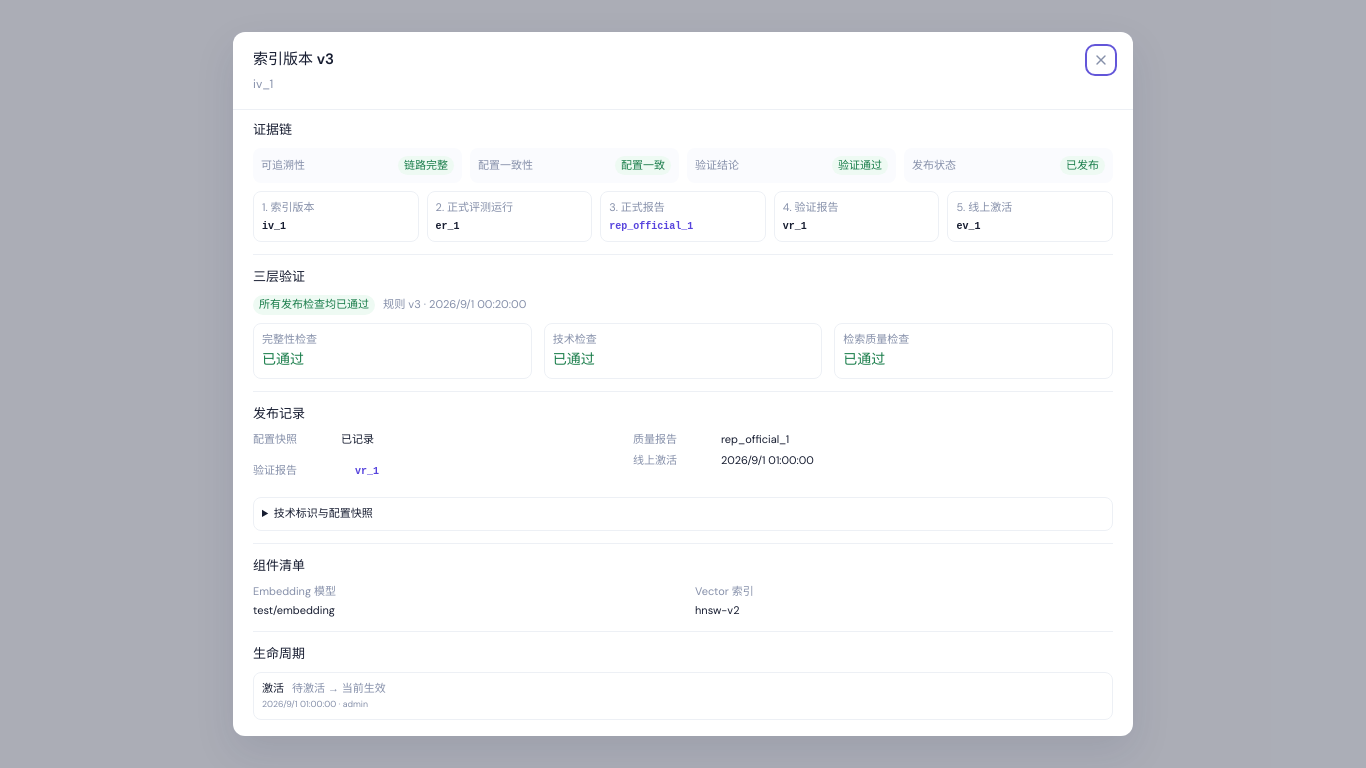
发布记录中的验证报告 ID 可点击查看完整报告
The image size is (1366, 768).
(page scrolled)
Click the button with aria-label "查看验证报告 vr_1".
click(367, 472)  # box [341,454,393,490]
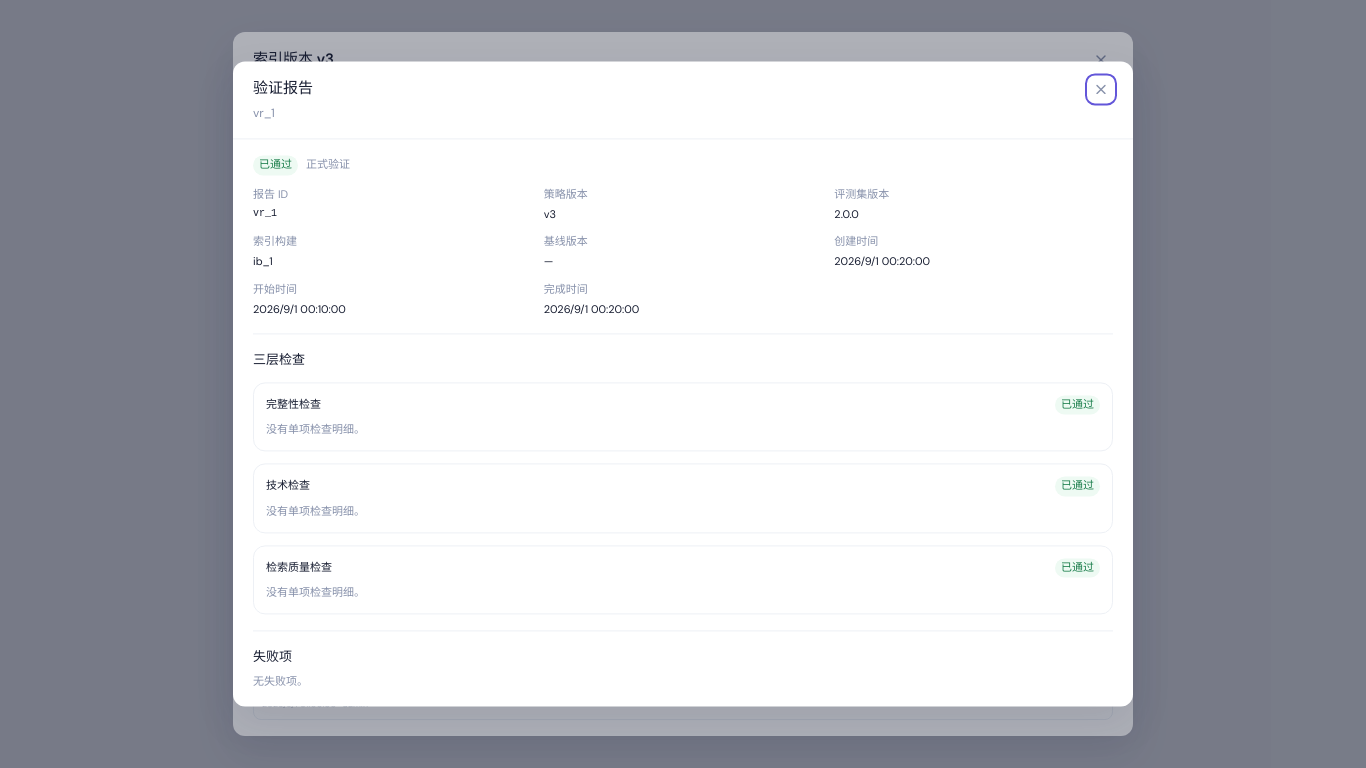
Check: the dialog "验证报告" shows "vr_1", box [253,106,275,122]
Check: the dialog "验证报告" shows "完整性检查", box [266,397,321,411]
Check: the dialog "验证报告" shows "技术检查", box [266,479,310,493]
